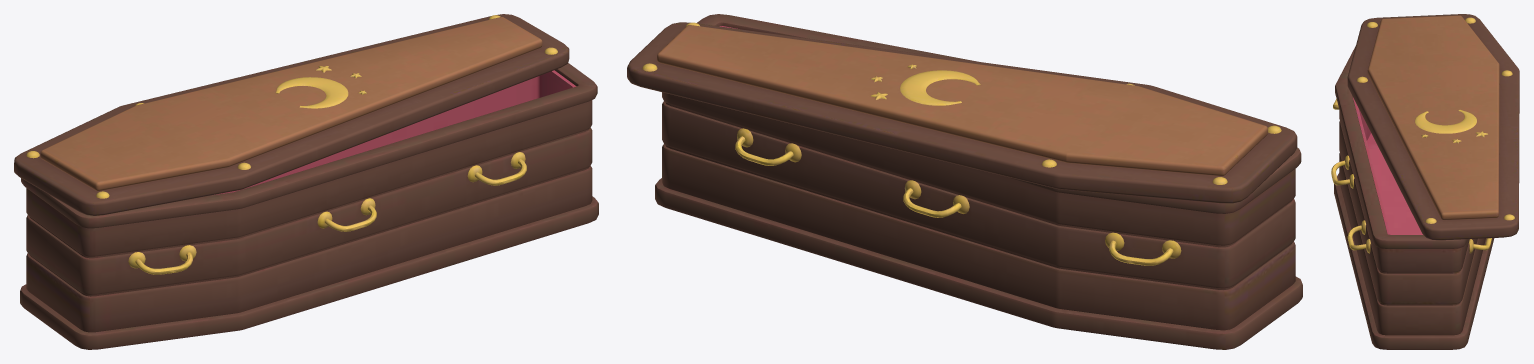
File: ataud.glb
3 views of the same model, side by side, from view 1: azimuth 30°, elevation 25°; view 2: azimuth 150°, elevation 25°; view 3: azimuth 270°, elevation 25° (orthographic). The views are drawn at different scales.
Visible parts, largest first — view 1: coffin_body; view 2: coffin_body; view 3: coffin_body.
Boxes of the visible parts, left/top/right/bottom form: coffin_body: left=14, top=14, right=598, bottom=349; coffin_body: left=627, top=14, right=1302, bottom=349; coffin_body: left=1331, top=14, right=1519, bottom=349.
Bounding box in the file's own units: 1.96 × 0.551 × 0.7221.
2 materials, 2 textured.
